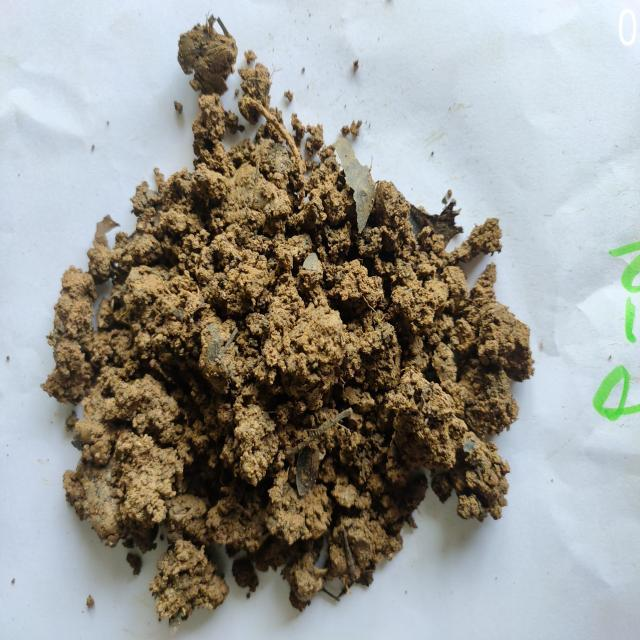soil: (134, 220, 400, 494)
